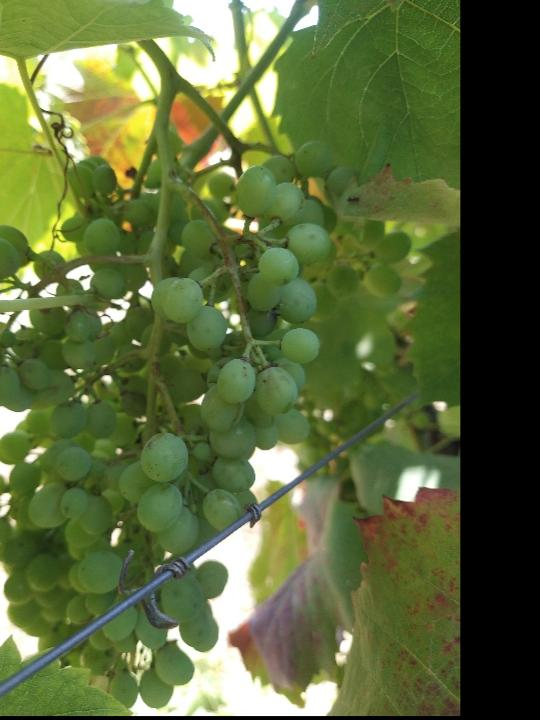grape: (0, 129, 418, 711)
